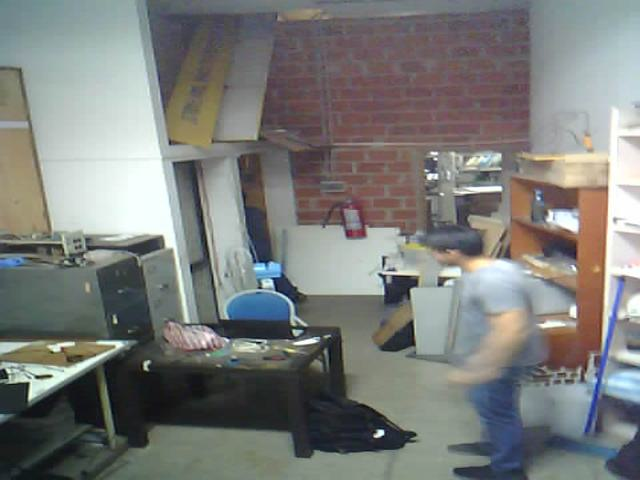person: (399, 211, 585, 480), (220, 169, 318, 313)
